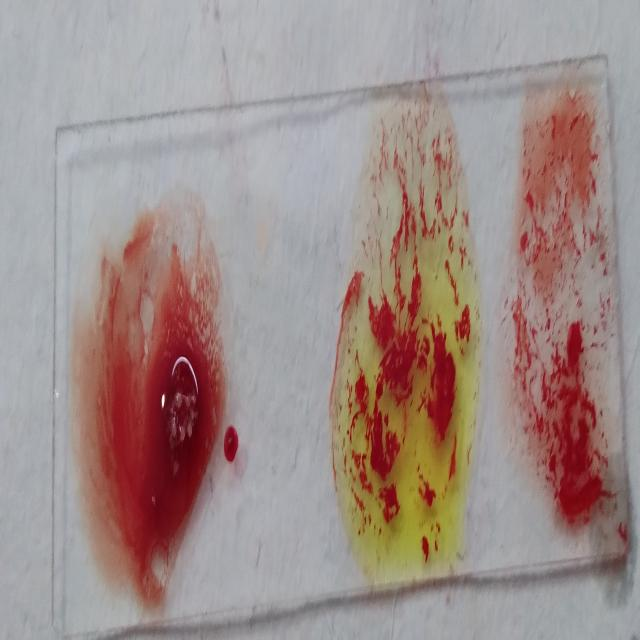A: (83, 190, 216, 584)
B: (329, 96, 478, 567)
D: (510, 86, 620, 561)
